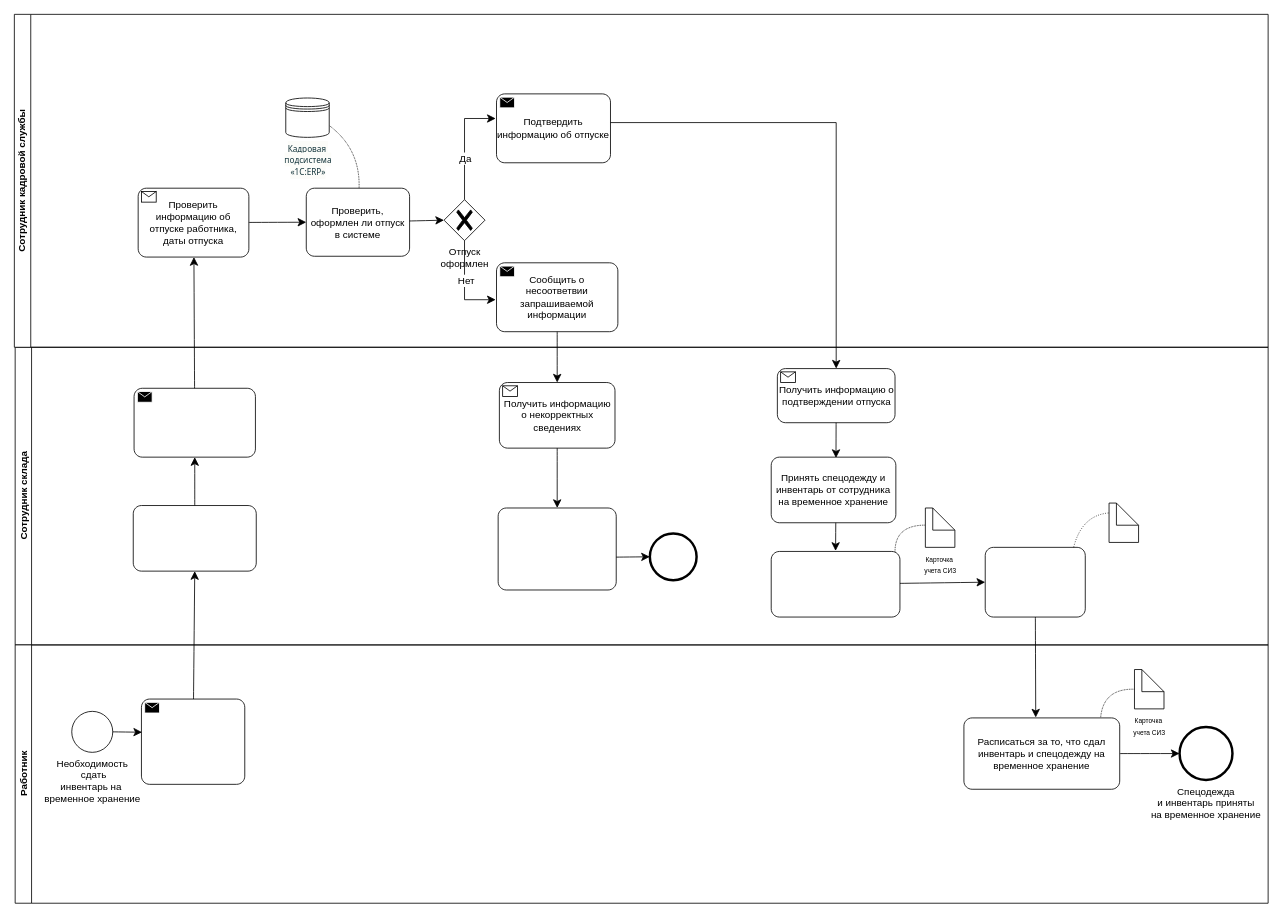
Image size: 1282x918. Some labels were removed from this diagram. Each missing label, with the centre of its shape:
Excel документ: the point at 1123,522
Зписать данные о возврате спецодежды в карточку сотрудника: the point at 835,584
Отказ в принятии инвентаря и спецодежды: the point at 673,556
Отказать в принятии спецодежды и инвентаря: the point at 556,548
Отметить факт возврата спецодежды или инвентаря: the point at 1034,582
Подтвердить информацию об отпуске работника в кадровом блоке: the point at 194,422
Принять обращение работника: the point at 194,538
Сообщить о сдаче инвентаря на временное хранение и датах отпуска, Ф.И.О.: the point at 193,741
